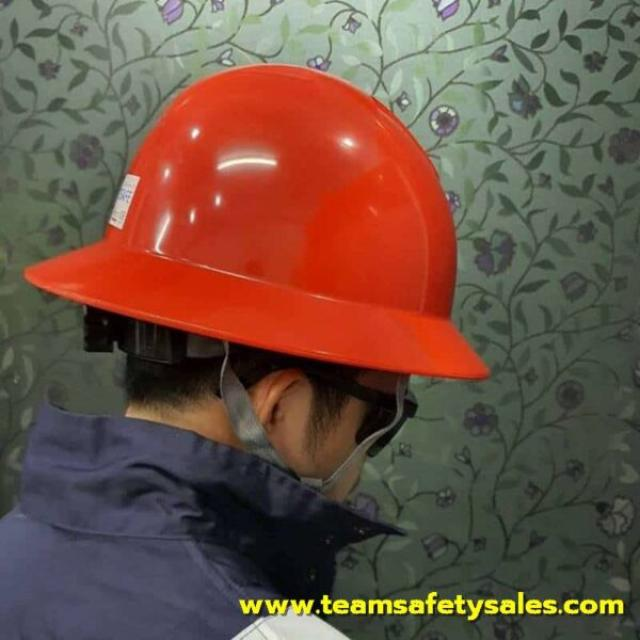red helmet: (19, 60, 499, 392)
